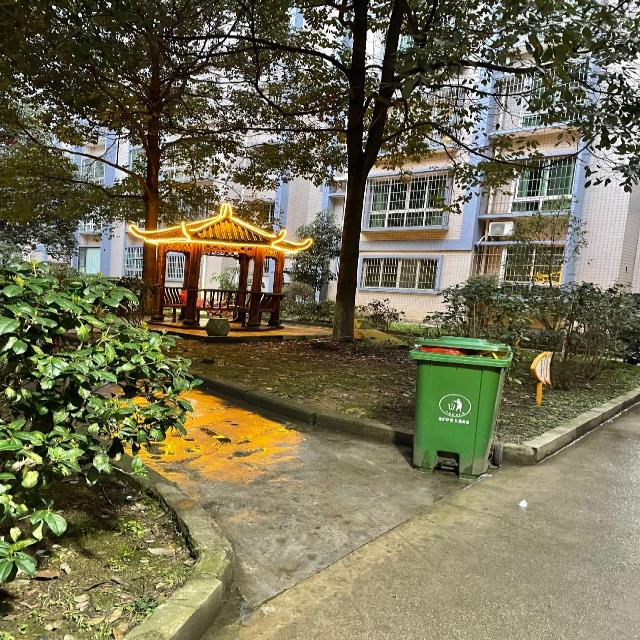overflow: (406, 334, 511, 479)
